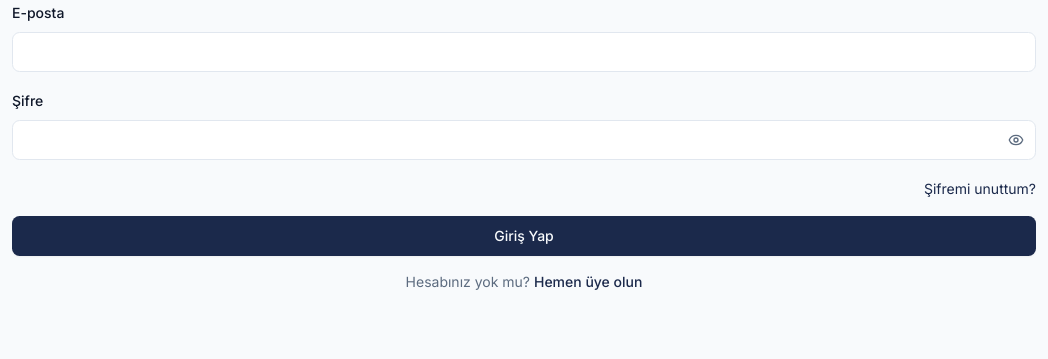
Test case: Giriş formu › ATFEDİLEMEYEN kimlik hatası: alan geçersiz İŞARETLENMEZ ama ikisine de bağlanır
The image size is (1048, 359).
Step 1. Type "a@b.com" into the field labelled "E-posta" → {"x": 524, "y": 52}, box [12,32,1036,72]
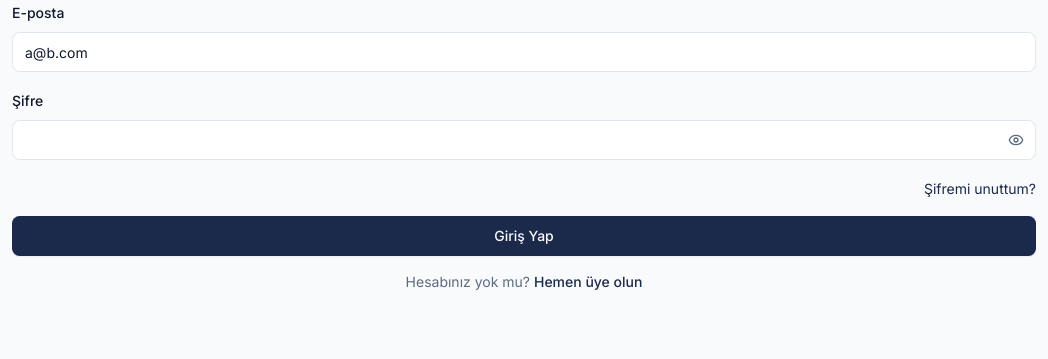
Step 2. Type "yanlis" into the password field labelled "Şifre" → {"x": 524, "y": 140}, box [12,120,1036,160]
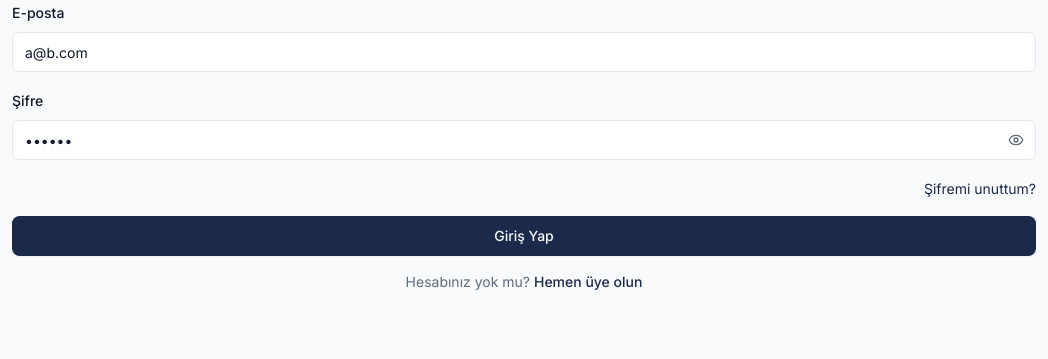
Step 3. Submit the form labelled "E-posta"
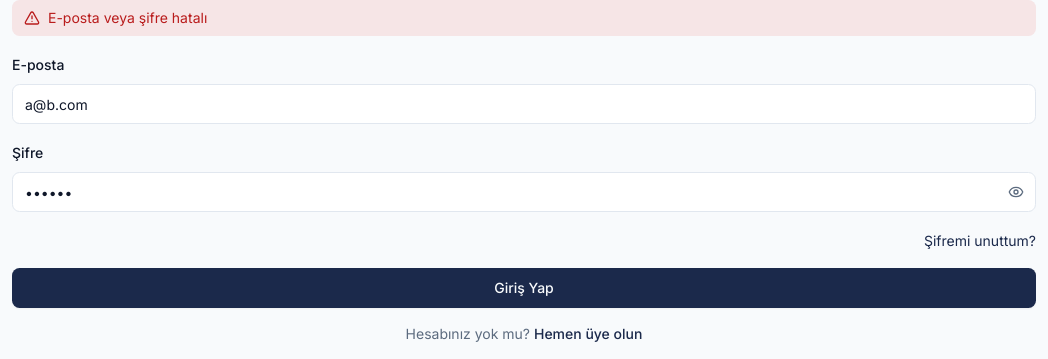
Expected: the message reads "E-posta veya şifre hatalı", [48,9,207,26]
Expected: the text "E-posta veya şifre hatalı" is shown, [48,8,207,28]
